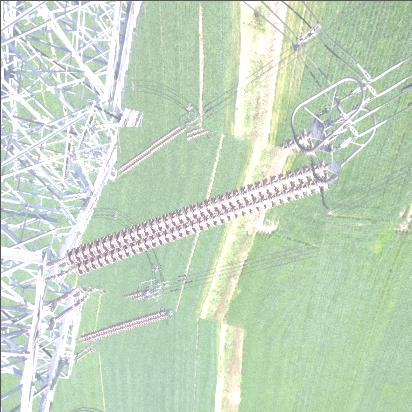insulator: (52, 113, 332, 328), (78, 292, 171, 362), (117, 127, 188, 179)
